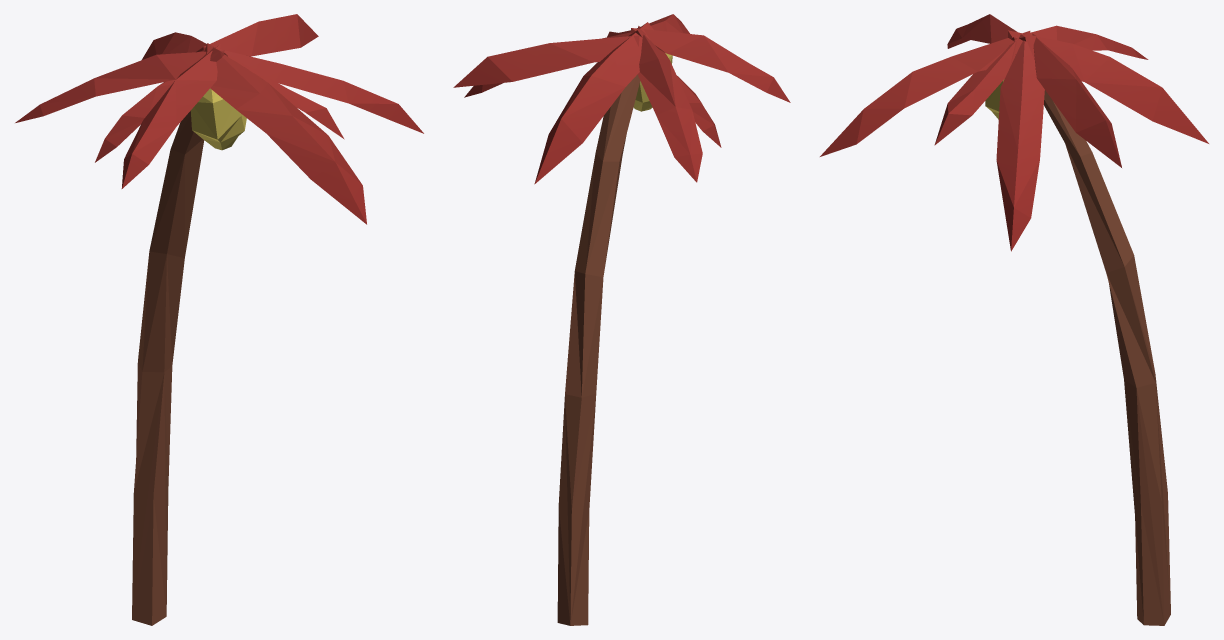
Rendered from Tree_11_gradient_red_vc.fbx.
The picture shows the model from 3 angles, left to right: view 1: azimuth 30°, elevation 25°; view 2: azimuth 150°, elevation 25°; view 3: azimuth 270°, elevation 25°; orthographic projection. The views are drawn at different scales.
Visible parts, largest first — view 1: Tree_11_gradient_red_vc; view 2: Tree_11_gradient_red_vc; view 3: Tree_11_gradient_red_vc.
Boxes of the visible parts, left/top/right/bottom form: Tree_11_gradient_red_vc: left=15, top=14, right=423, bottom=625; Tree_11_gradient_red_vc: left=453, top=14, right=790, bottom=625; Tree_11_gradient_red_vc: left=820, top=14, right=1208, bottom=625.
Bounding box in the file's own units: 117 × 207 × 124.
